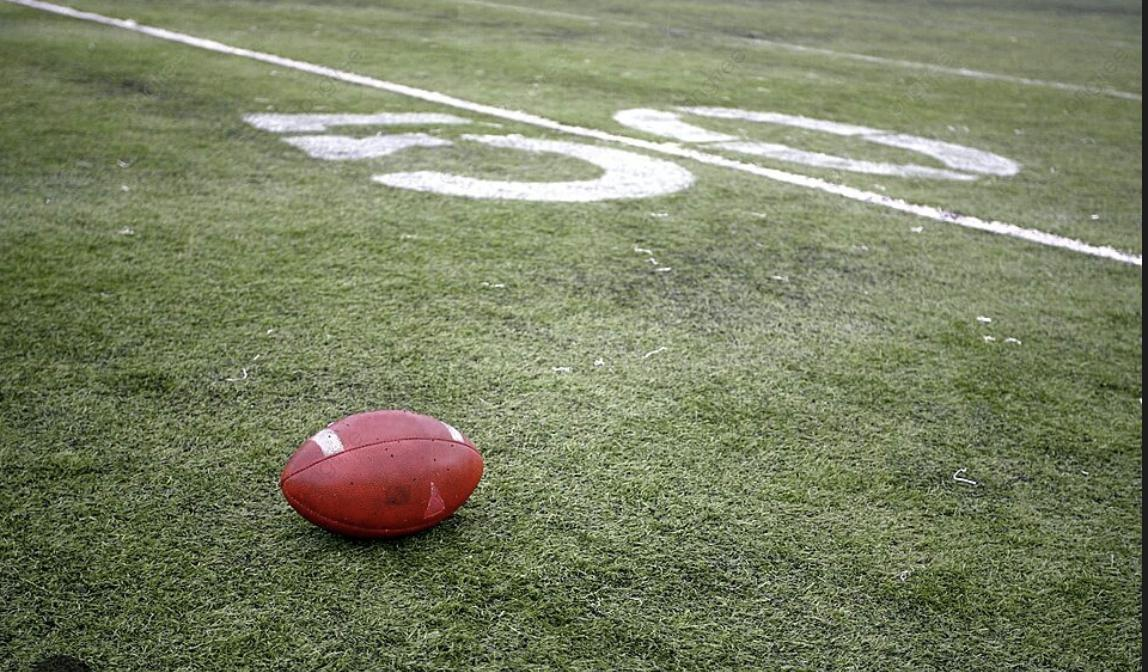Sports-Ball: (280, 410, 484, 538)
